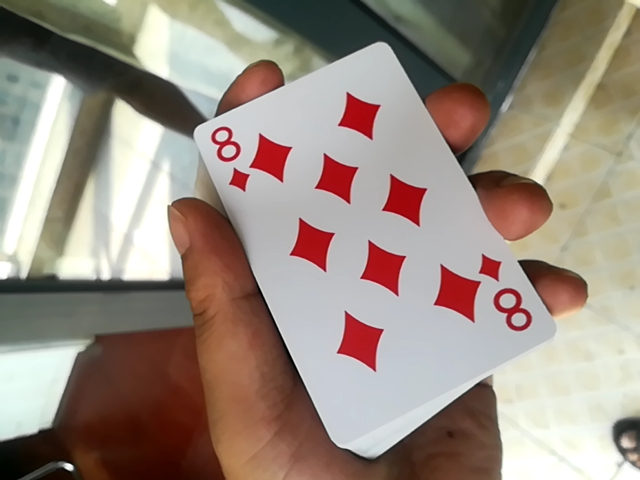fk 8: (176, 27, 540, 459)
